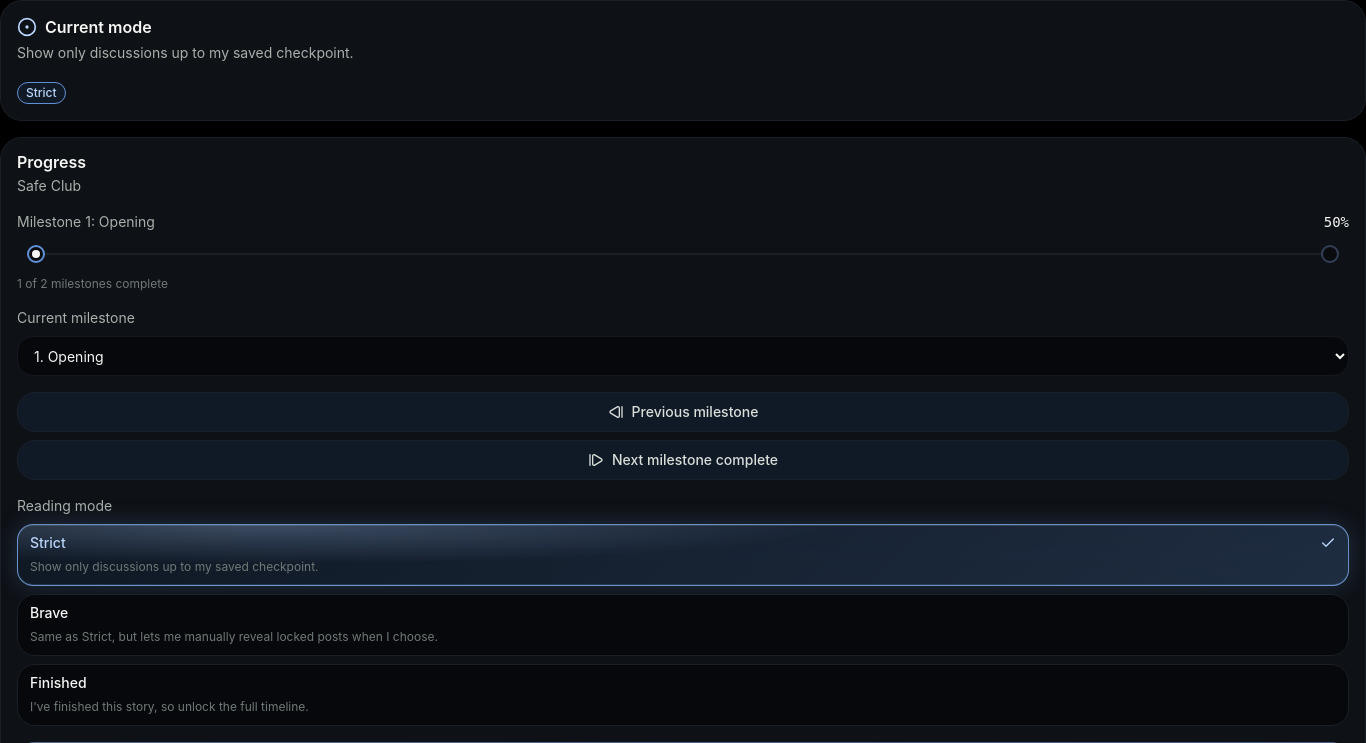
Test: frontend regression smoke › switches to Finished after quick advance reaches the final milestone
This screenshot has width=1366, height=743.
Step 1. Click the button "Next milestone complete" → x=683, y=460, box [17,440,1349,480]
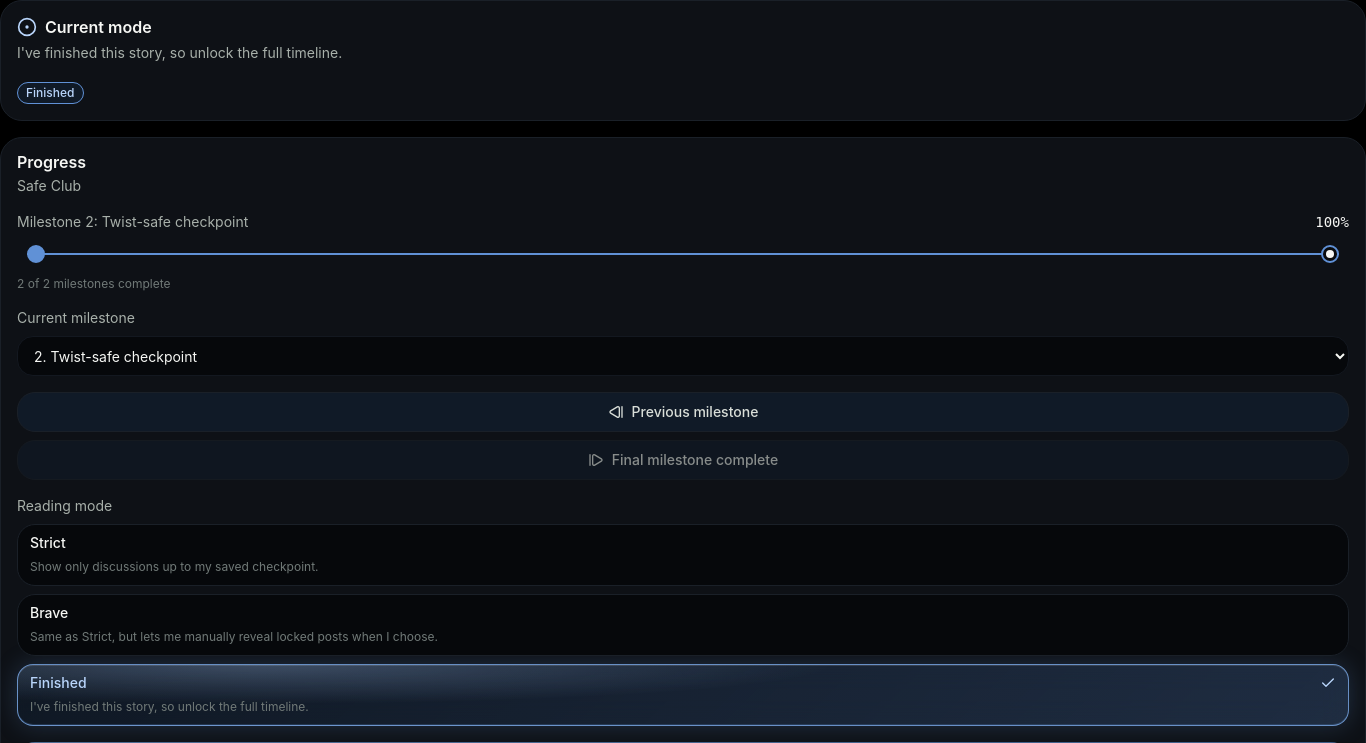
Expected: the dropdown labelled "Current milestone" shows "2. Twist-safe checkpoint", [17,336,1349,376]
